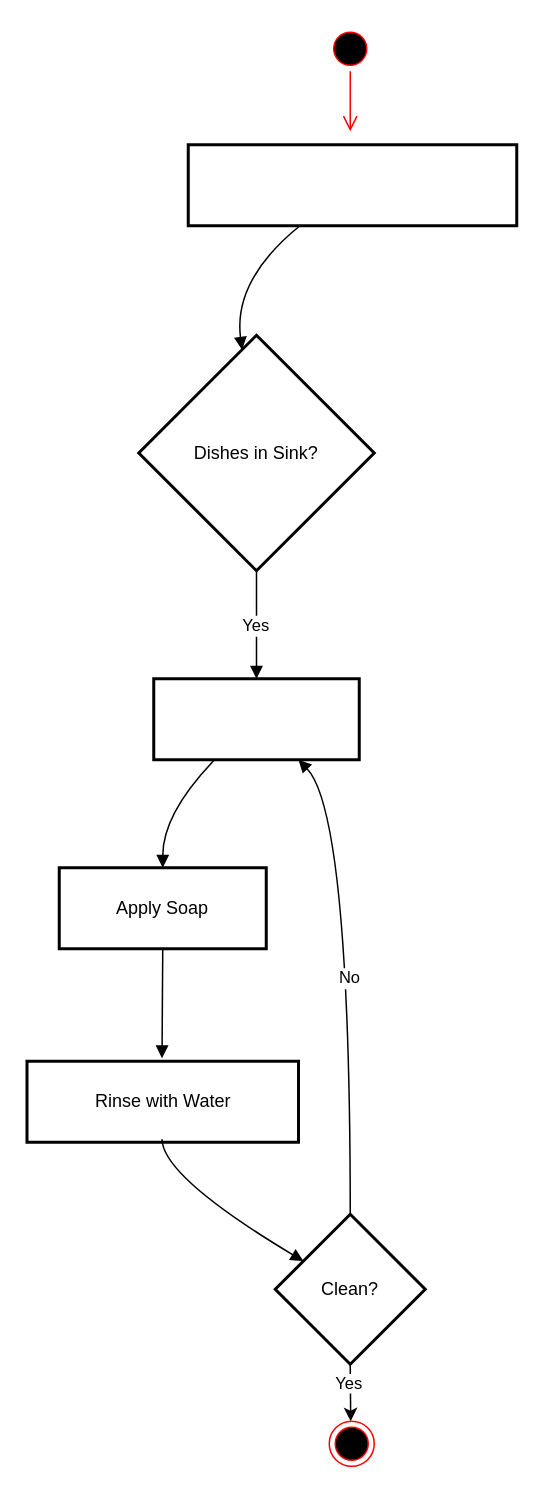
Some shapes in this 545 by 1493 pixel diagram are drawn without their labels. The shapes that lost their labels are listed below. From the top down, each one's box as (x1, y1, x2, y2) in pixels, then its label:
(186, 142, 518, 226): Scan Sensor for Dishes
(152, 676, 360, 760): Water Dish
